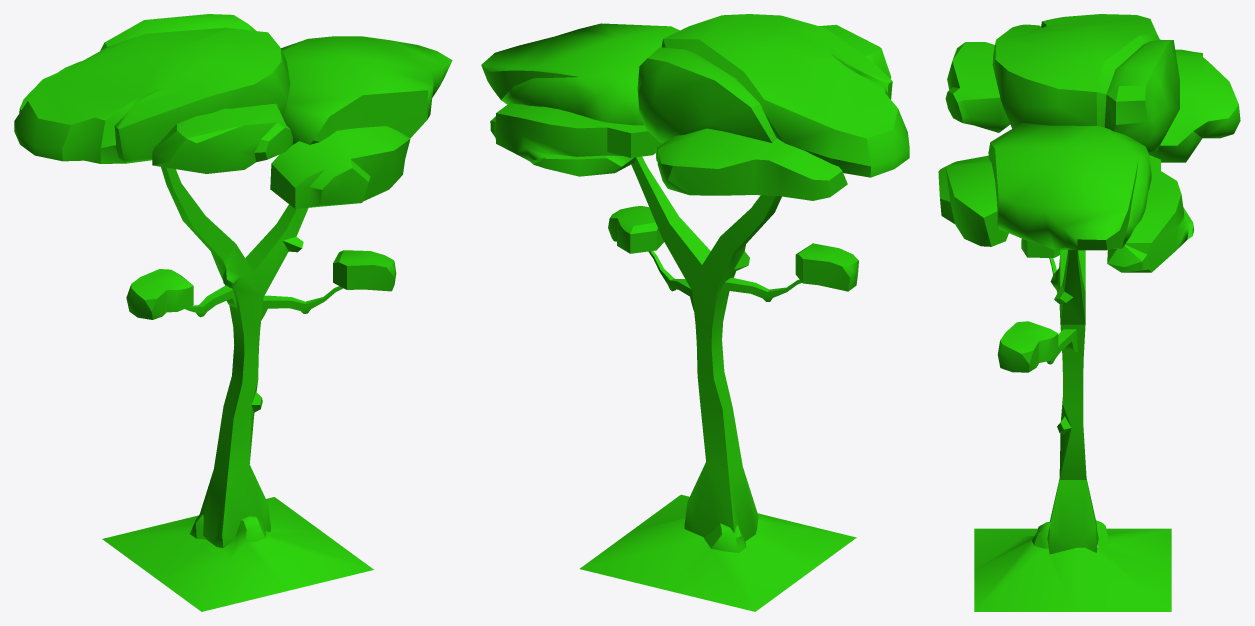
Rendered from FOL_Foliage_05.FBX.
3 views of the same model, side by side, from view 1: azimuth 30°, elevation 25°; view 2: azimuth 150°, elevation 25°; view 3: azimuth 270°, elevation 25° (orthographic). The views are drawn at different scales.
Parts seen in each view (by area): view 1: FOL_Foliage_05; view 2: FOL_Foliage_05; view 3: FOL_Foliage_05.
Part boxes in pixels (x1=…): FOL_Foliage_05: x1=14, y1=14, x2=452, y2=611; FOL_Foliage_05: x1=481, y1=14, x2=909, y2=611; FOL_Foliage_05: x1=938, y1=14, x2=1240, y2=611.
Size of the model in its own units: 14.33 by 17.28 by 9.18.
